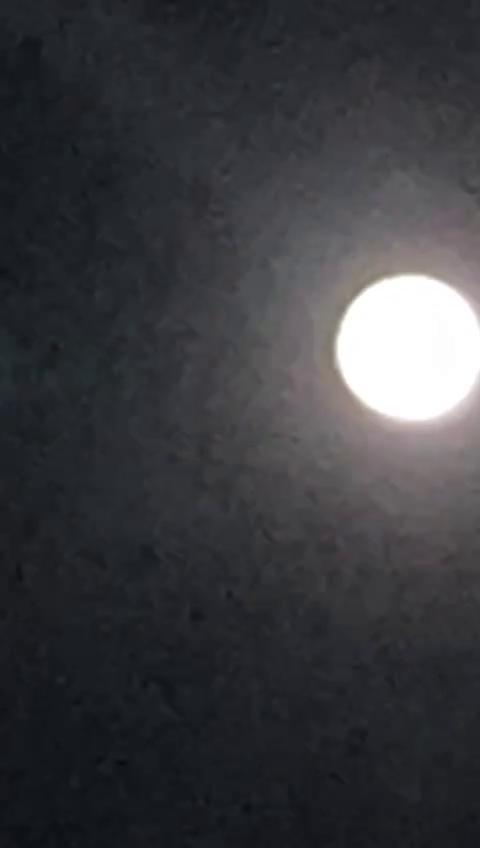moon: (325, 268, 480, 428)
